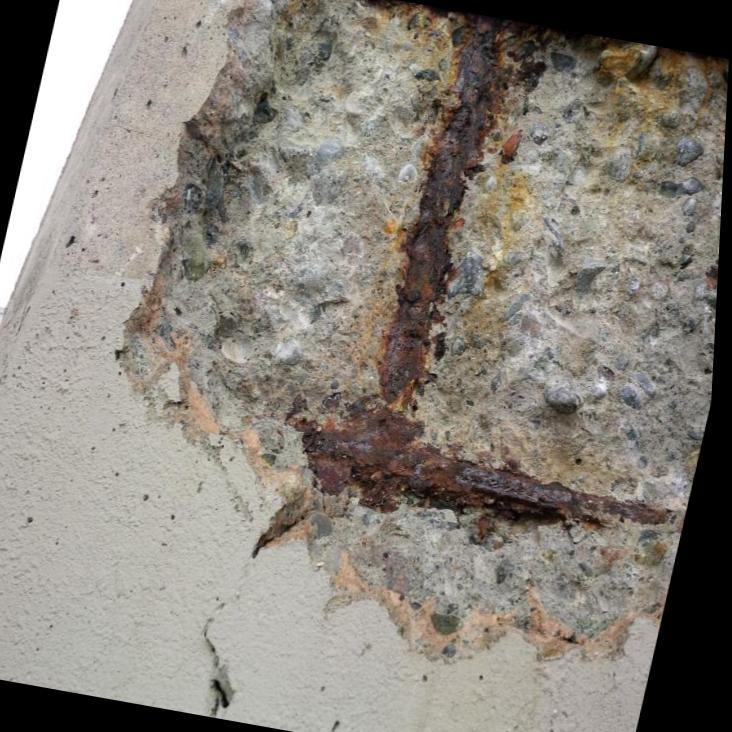crack: (207, 606, 244, 718)
damage: (107, 0, 730, 680)
